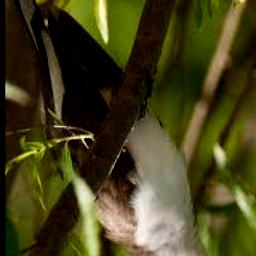Cuckoo: (5, 0, 240, 256)
